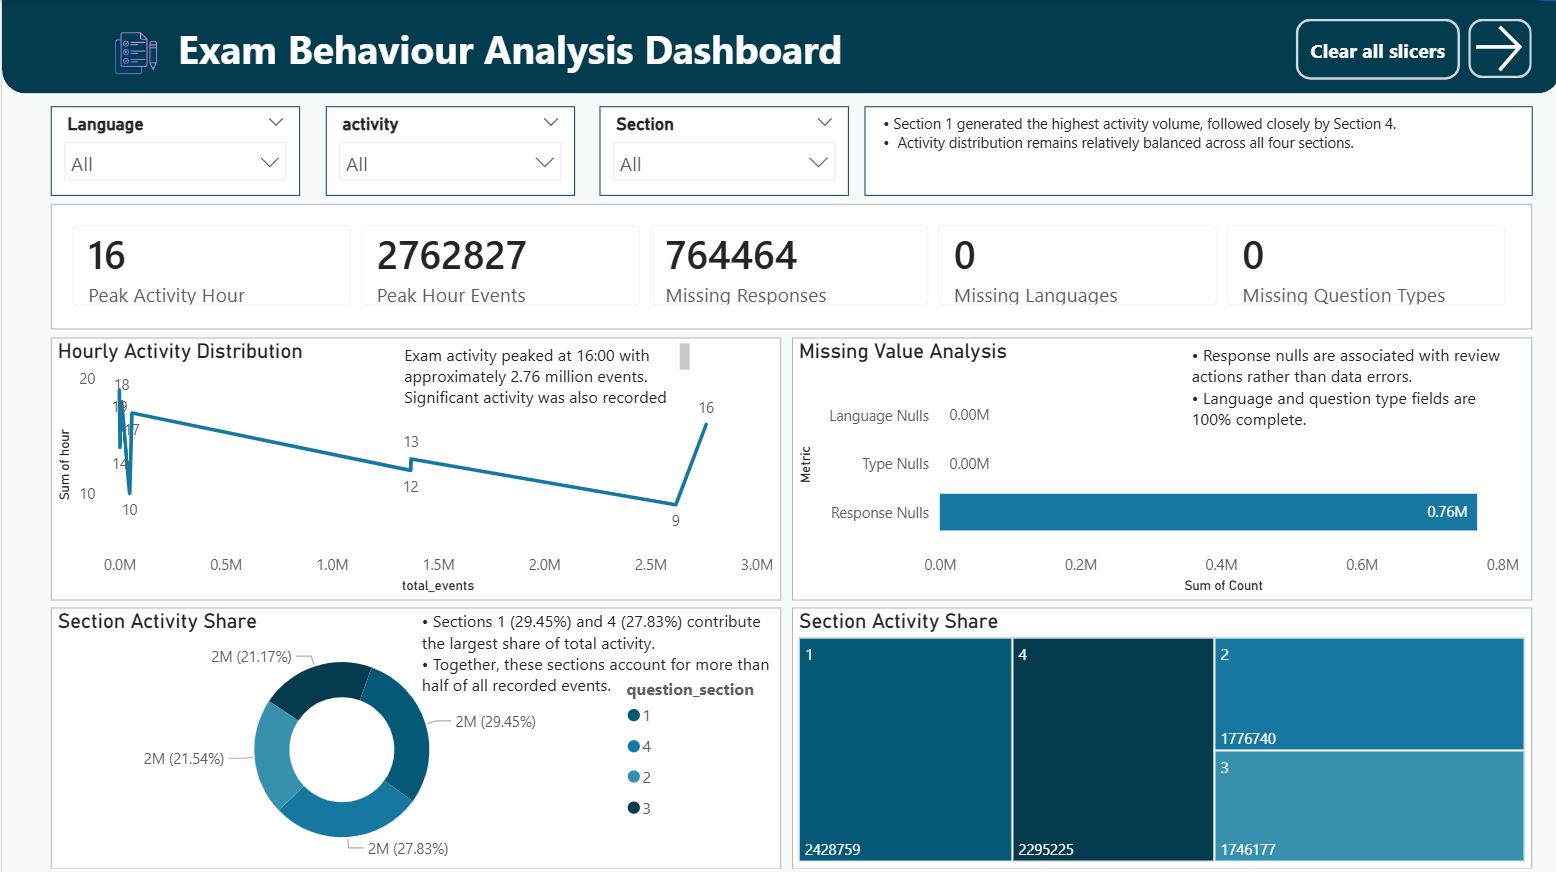

The page's visual inventory and layout, read from the dashboard file:
{"tool":"powerbi","page":{"name":"Time & Data Quality","canvas":[1280,720],"ordinal":2},"visuals":[{"type":"group","id":"g1","title":"Group 2","box":[0,0,1280.2,76.7],"z":0},{"type":"shape","box":[0,0,1280.2,76.7],"z":0,"group":"g2"},{"type":"shape","box":[1233.6,0,46.7,34.5],"z":0,"group":"g1"},{"type":"group","id":"g2","title":"Group 1","box":[0,0,1280.2,76.7],"z":1000,"group":"g1"},{"type":"shape","box":[0,0,37,34.5],"z":1000,"group":"g2"},{"type":"textbox","box":[140,13.7,555.7,53.5],"z":1000},{"type":"cardVisual","fields":{"Data":["Sum(Peak_Hour_KPI.peak_hour)","Sum(Peak_Hour_KPI.total_events)","Sum(Missing_Value_KPI.response_nulls)","Sum(Missing_Value_KPI.language_nulls)","Sum(Missing_Value_KPI.type_nulls)"]},"box":[39.8,167.4,1217.2,102.9],"z":2000},{"type":"lineChart","title":"Hourly Activity Distribution","fields":{"Y":["Sum(Hourly Activity.hour)"],"Category":["Hourly Activity.total_events"]},"box":[39.5,276.7,600,216.3],"z":3000},{"type":"textbox","box":[325.6,276.7,244.2,61.6],"z":4000},{"type":"clusteredBarChart","title":"Missing Value Analysis","fields":{"Y":["Sum(Data_Quality.Count)"],"Category":["Data_Quality.Metric"]},"box":[648.8,276.7,608.1,216.3],"z":5000},{"type":"donutChart","title":"Section Activity Share","fields":{"Category":["Section Analysis.question_section"],"Y":["Sum(Section Analysis.total_events)"]},"box":[39.5,498.8,600,215.1],"z":6000},{"type":"treemap","title":"Section Activity Share","fields":{"Group":["Section Analysis.question_section"],"Values":["Sum(Section Analysis.total_events)"]},"box":[649,499,608,215],"z":7000},{"type":"group","id":"g3","title":"Group 3","box":[1062.8,15.3,194.2,50],"z":8000},{"type":"textbox","box":[972.1,276.7,273.3,83.7],"z":9000},{"type":"slicer","fields":{"Values":["Language_Distribution.question_language"]},"box":[39.5,87.2,204.7,73.3],"z":10000},{"type":"slicer","fields":{"Values":["Activity by Section.activity"]},"box":[266.3,87.2,204.7,73.3],"z":11000},{"type":"slicer","fields":{"Values":["Section Analysis.question_section"]},"box":[490.7,87.2,204.7,73.3],"z":12000},{"type":"actionButton","box":[1062.8,15.3,134.9,50],"z":13000,"group":"g3"},{"type":"textbox","box":[708.1,87.2,548.8,73.3],"z":13000},{"type":"actionButton","box":[1204.7,15.3,52.3,48.8],"z":14000,"group":"g3"},{"type":"image","box":[80.2,25.6,59.3,36],"z":14000},{"type":"textbox","box":[339.5,495.4,300,82.6],"z":14001}]}

Visuals, with their boxes in screenshot pixels (x1, y1, x2, y2), scaled from the page's 1280x720 canvas onto the 1556x872 screenshot:
"Group 2" group: 0, 0, 1555, 93
shape: 0, 0, 1555, 93
shape: 1500, 0, 1555, 42
"Group 1" group: 0, 0, 1555, 93
shape: 0, 0, 45, 42
textbox: 170, 17, 846, 81
cardVisual - Sum(Peak_Hour_KPI.peak_hour) x Sum(Peak_Hour_KPI.total_events): 48, 203, 1528, 327
"Hourly Activity Distribution" lineChart: 48, 335, 777, 597
textbox: 396, 335, 693, 410
"Missing Value Analysis" clusteredBarChart: 789, 335, 1528, 597
"Section Activity Share" donutChart: 48, 604, 777, 865
"Section Activity Share" treemap: 789, 604, 1528, 865
"Group 3" group: 1292, 19, 1528, 79
textbox: 1182, 335, 1514, 436
slicer - Language_Distribution.question_language: 48, 106, 297, 194
slicer - Activity by Section.activity: 324, 106, 573, 194
slicer - Section Analysis.question_section: 597, 106, 845, 194
actionButton: 1292, 19, 1456, 79
textbox: 861, 106, 1528, 194
actionButton: 1464, 19, 1528, 78
image: 97, 31, 170, 75
textbox: 413, 600, 777, 700
